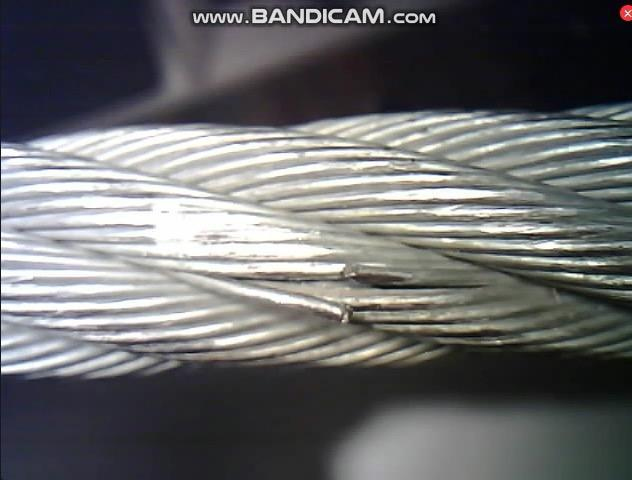break: (319, 256, 379, 325)
